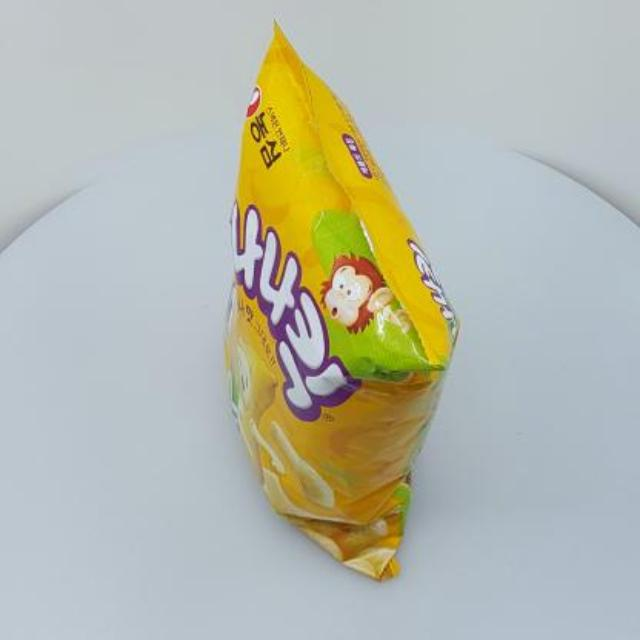snack_bag: (214, 15, 468, 591)
